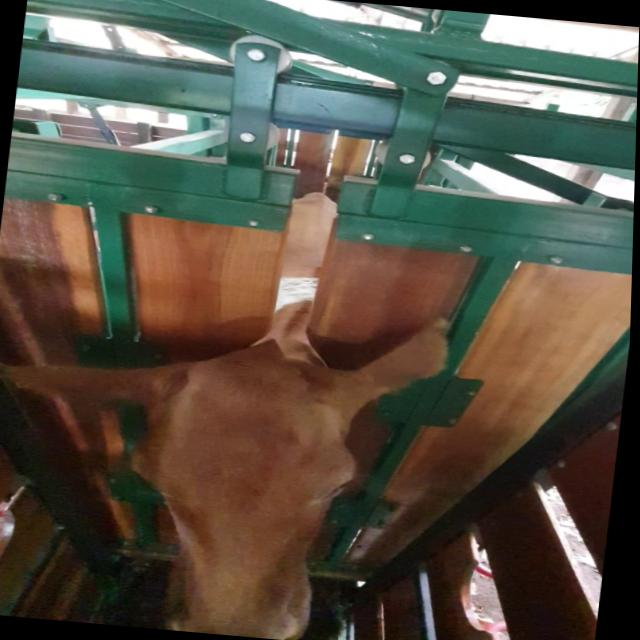cowFace: (112, 344, 367, 640)
